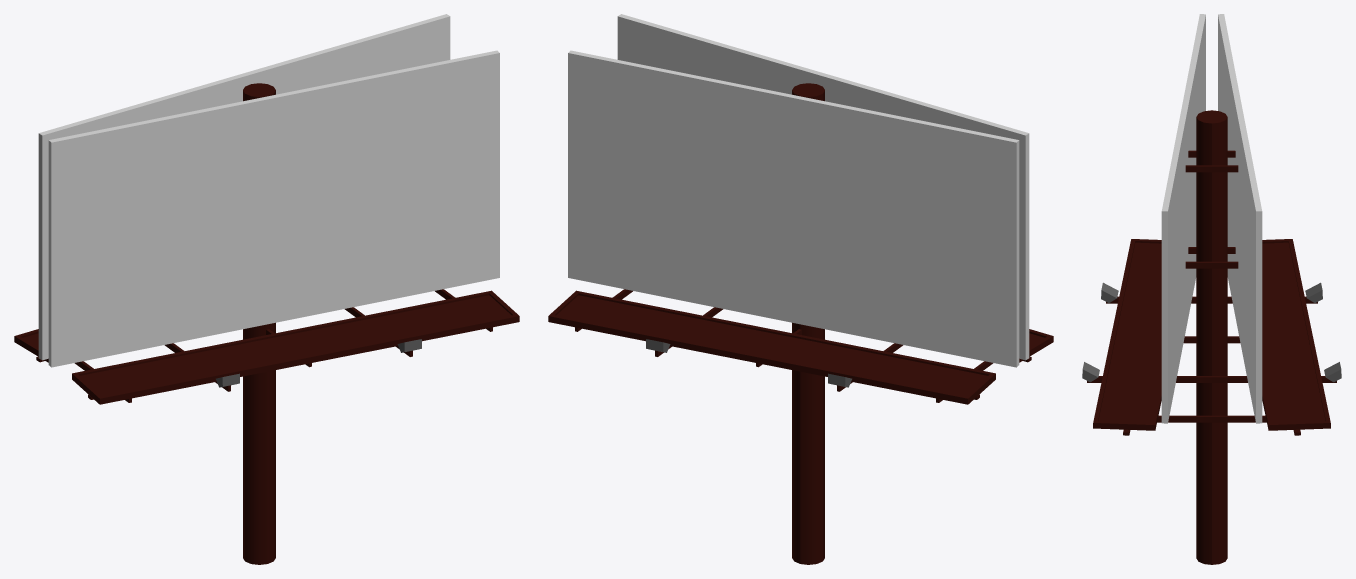
File: Billboard2.fbx
3 renders of one model, left to right at view 1: azimuth 30°, elevation 25°; view 2: azimuth 150°, elevation 25°; view 3: azimuth 270°, elevation 25°, orthographic. The views are drawn at different scales.
Visible parts, largest first — view 1: Cube, Cube.001, Cylinder; view 2: Cube, Cube.001, Cylinder; view 3: Cube.001, Cube, Cylinder.
Part boxes in pixels (box(x1,y1,x2,y2)): Cube: box(38, 14, 499, 367); Cube.001: box(14, 289, 519, 404); Cylinder: box(243, 83, 275, 564); Cube: box(568, 14, 1029, 367); Cube.001: box(548, 289, 1053, 404); Cylinder: box(792, 83, 824, 564); Cube.001: box(1087, 150, 1336, 435); Cube: box(1161, 14, 1262, 423); Cylinder: box(1196, 110, 1227, 564).
Bounding box in the file's own units: 1496 × 1575 × 831.
